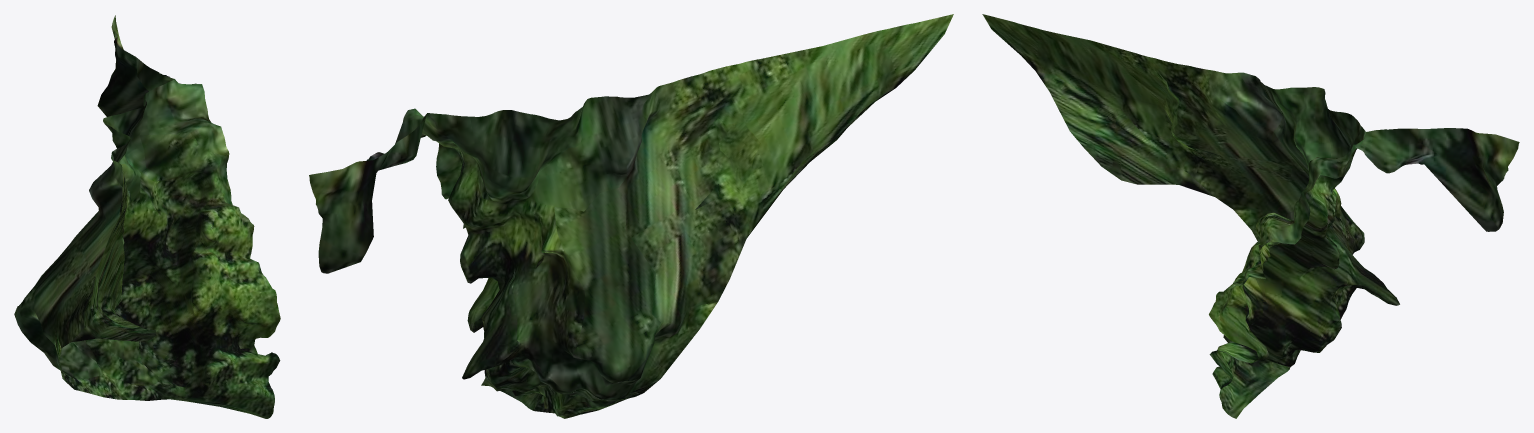
The model's file is Tile_+004_+017.fbx.
The picture shows the model from 3 angles, left to right: view 1: azimuth 30°, elevation 25°; view 2: azimuth 150°, elevation 25°; view 3: azimuth 270°, elevation 25°; orthographic projection. The views are drawn at different scales.
Visible parts, largest first — view 1: DefaultName; view 2: DefaultName; view 3: DefaultName.
Part boxes in pixels (bbox=[...]): DefaultName: bbox=[14, 15, 280, 418]; DefaultName: bbox=[309, 14, 953, 418]; DefaultName: bbox=[982, 14, 1519, 418].
Bounding box in the file's own units: 3.47 × 3.5 × 6.15.
